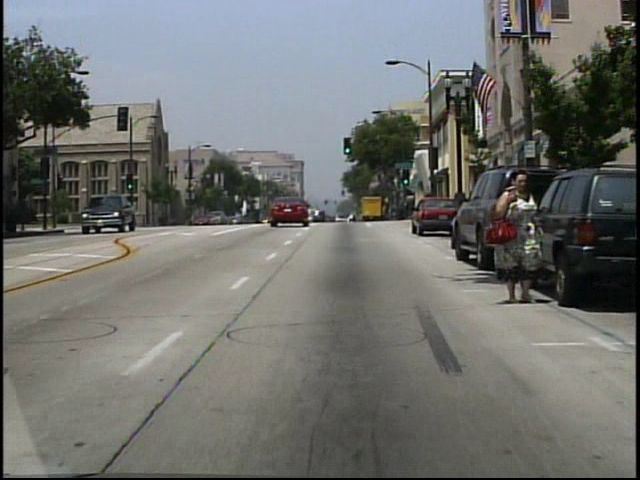person: (487, 169, 549, 306)
